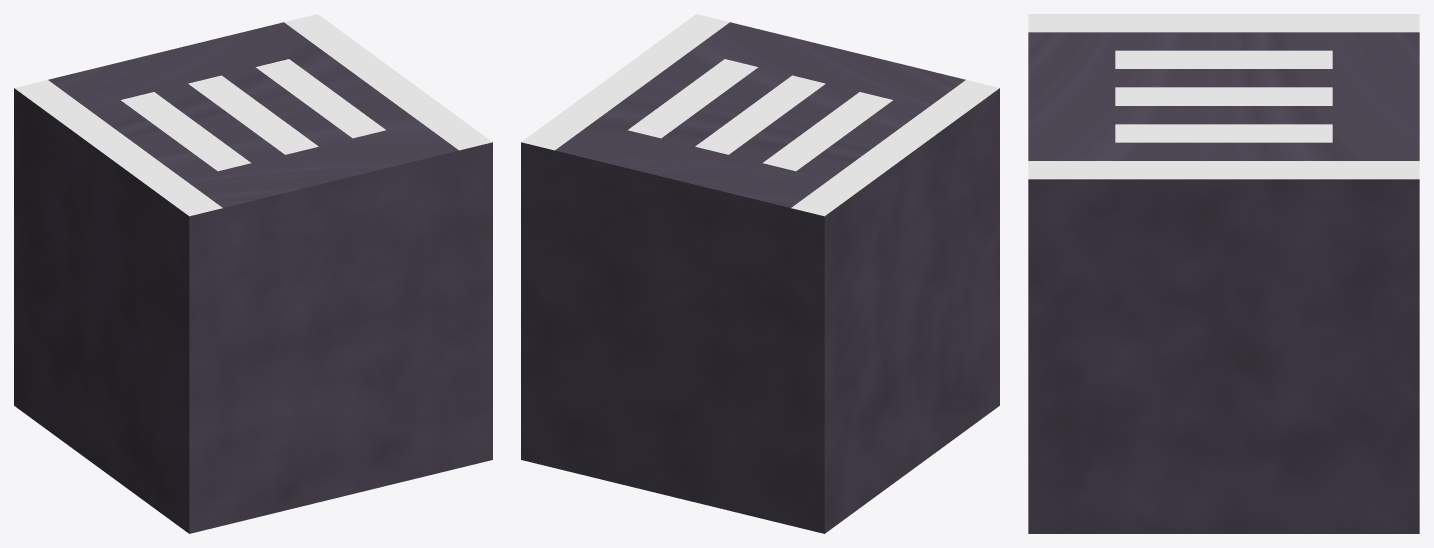
The model's file is Crosswalk.fbx.
3 views of the same model, side by side, from view 1: azimuth 30°, elevation 25°; view 2: azimuth 150°, elevation 25°; view 3: azimuth 270°, elevation 25° (orthographic). The views are drawn at different scales.
Visible parts, largest first — view 1: Crosswalk; view 2: Crosswalk; view 3: Crosswalk.
Part boxes in pixels (<box>): Crosswalk: <box>14,14,492,533</box>; Crosswalk: <box>521,14,999,533</box>; Crosswalk: <box>1028,14,1419,533</box>.
Size of the model in its own units: 200 by 200 by 200.
2 materials, 1 textured.
